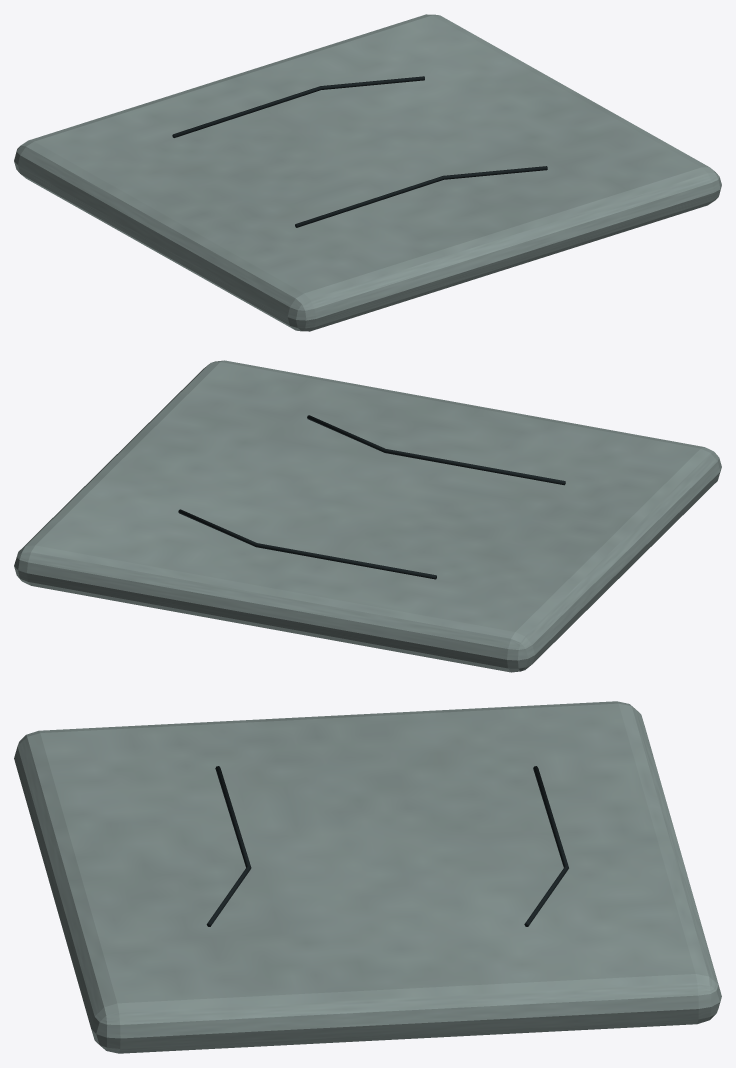
File: SM_lane_paver.fbx
3 views of the same model, one above another, from view 1: azimuth 30°, elevation 25°; view 2: azimuth 150°, elevation 25°; view 3: azimuth 270°, elevation 25° (orthographic). The views are drawn at different scales.
Parts seen in each view (by area): view 1: SM_lane_paver; view 2: SM_lane_paver; view 3: SM_lane_paver.
Boxes of the visible parts, x1=… form: SM_lane_paver: x1=14, y1=14, x2=721, y2=331; SM_lane_paver: x1=14, y1=360, x2=721, y2=672; SM_lane_paver: x1=14, y1=701, x2=721, y2=1053.
Bounding box in the file's own units: 0.8633 × 0.8022 × 0.0676.
